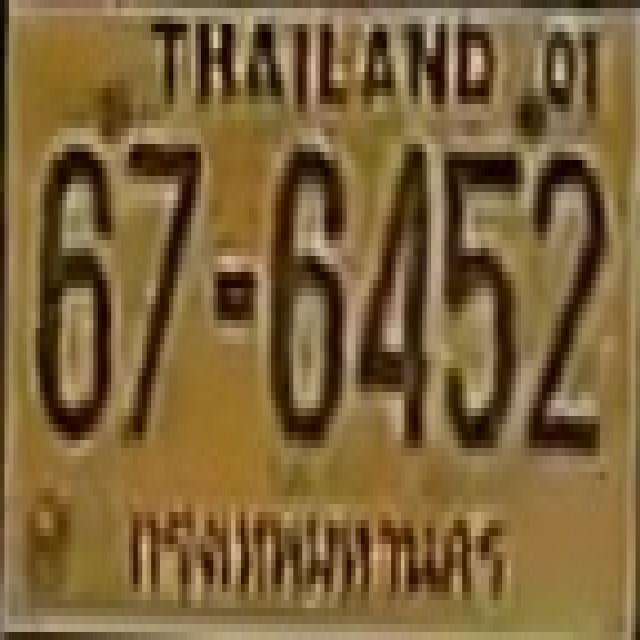2: (524, 144, 604, 448)
4: (356, 136, 426, 440)
5: (440, 148, 516, 444)
6: (267, 136, 342, 440), (31, 136, 107, 432)
7: (122, 136, 198, 440)
BKK: (114, 476, 521, 625)
